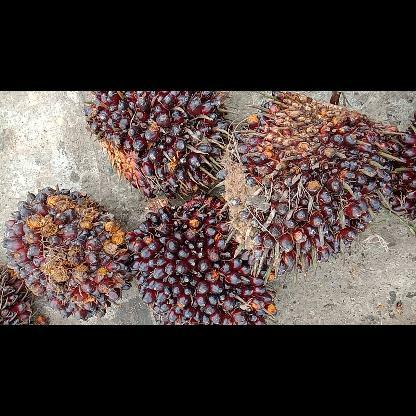Kurang masak: (218, 91, 402, 282), (122, 198, 280, 324), (0, 182, 134, 324), (78, 91, 234, 203)
